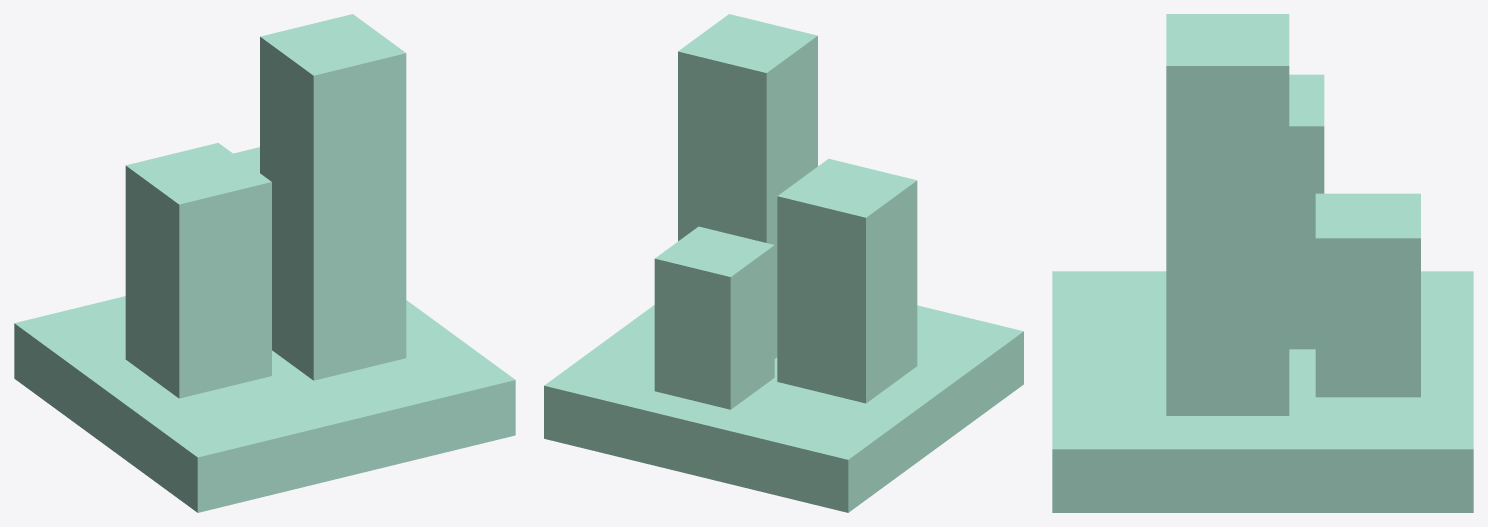
The model's file is resource.gltf.
3 views of the same model, side by side, from view 1: azimuth 30°, elevation 25°; view 2: azimuth 150°, elevation 25°; view 3: azimuth 270°, elevation 25° (orthographic). The views are drawn at different scales.
Visible parts, largest first — view 1: resource; view 2: resource; view 3: resource.
Part boxes in pixels (left/top/right/bottom): resource: left=14, top=14, right=515, bottom=512; resource: left=544, top=14, right=1023, bottom=512; resource: left=1052, top=14, right=1473, bottom=512.
Bounding box in the file's own units: 1.2 × 1.3 × 1.2.
